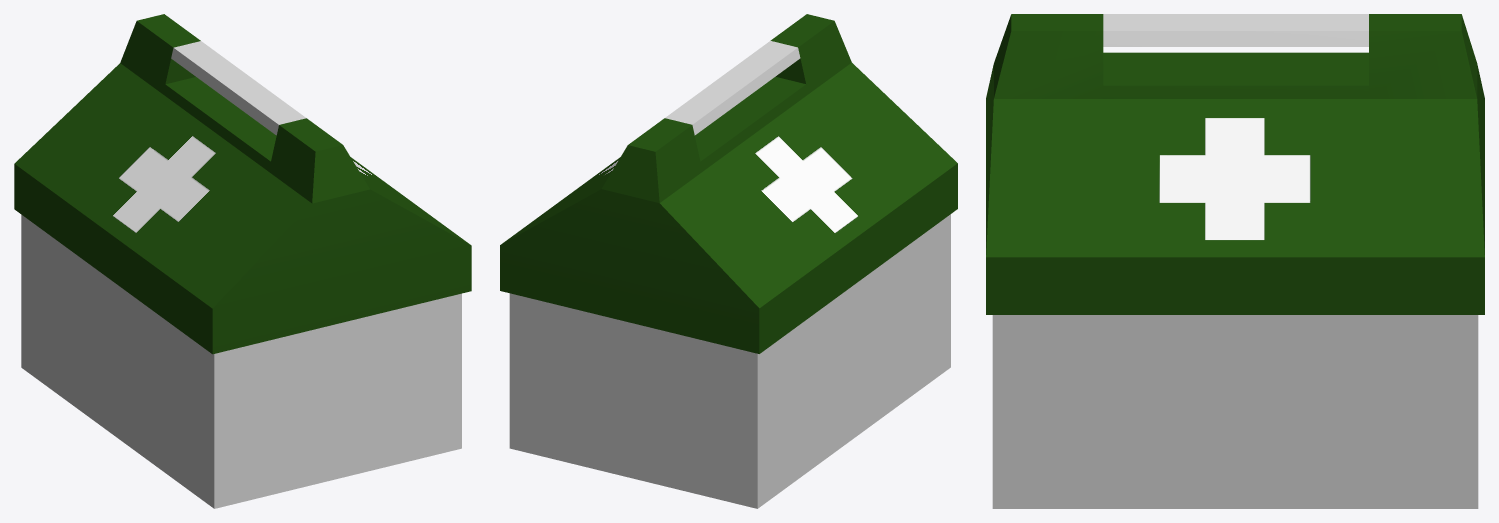
Rendered from apteczka_embeded_textures.fbx.
3 views of the same model, side by side, from view 1: azimuth 30°, elevation 25°; view 2: azimuth 150°, elevation 25°; view 3: azimuth 270°, elevation 25° (orthographic). The views are drawn at different scales.
Visible parts, largest first — view 1: apteczka; view 2: apteczka; view 3: apteczka.
Part boxes in pixels (left/top/right/bottom): apteczka: left=14, top=14, right=471, bottom=508; apteczka: left=500, top=14, right=957, bottom=508; apteczka: left=986, top=14, right=1484, bottom=508.
Size of the model in its own units: 49.95 by 59.94 by 66.17.
Materials: 3 (1 with a texture image).
